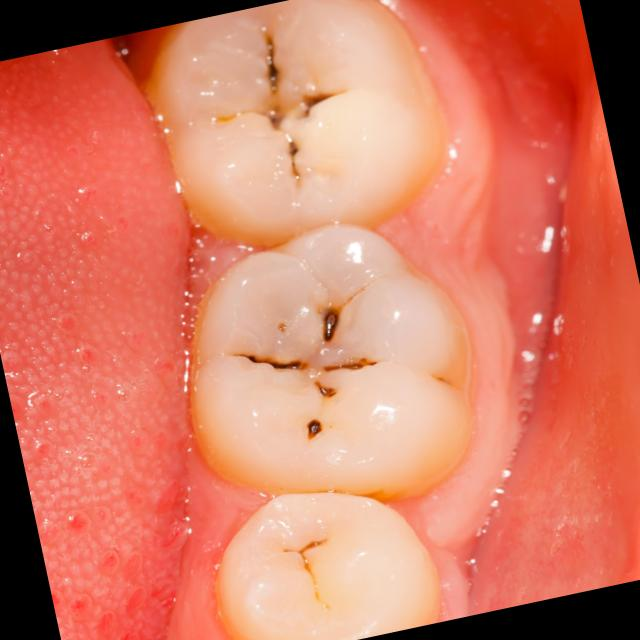Caries: (324, 357, 376, 370), (268, 40, 277, 94), (324, 312, 339, 341), (303, 94, 333, 107), (313, 381, 336, 397), (306, 418, 322, 439), (271, 362, 298, 368), (289, 142, 297, 155), (247, 356, 262, 362), (272, 118, 275, 121)
Tooth: (190, 224, 474, 503), (145, 0, 445, 243), (213, 492, 441, 640)
